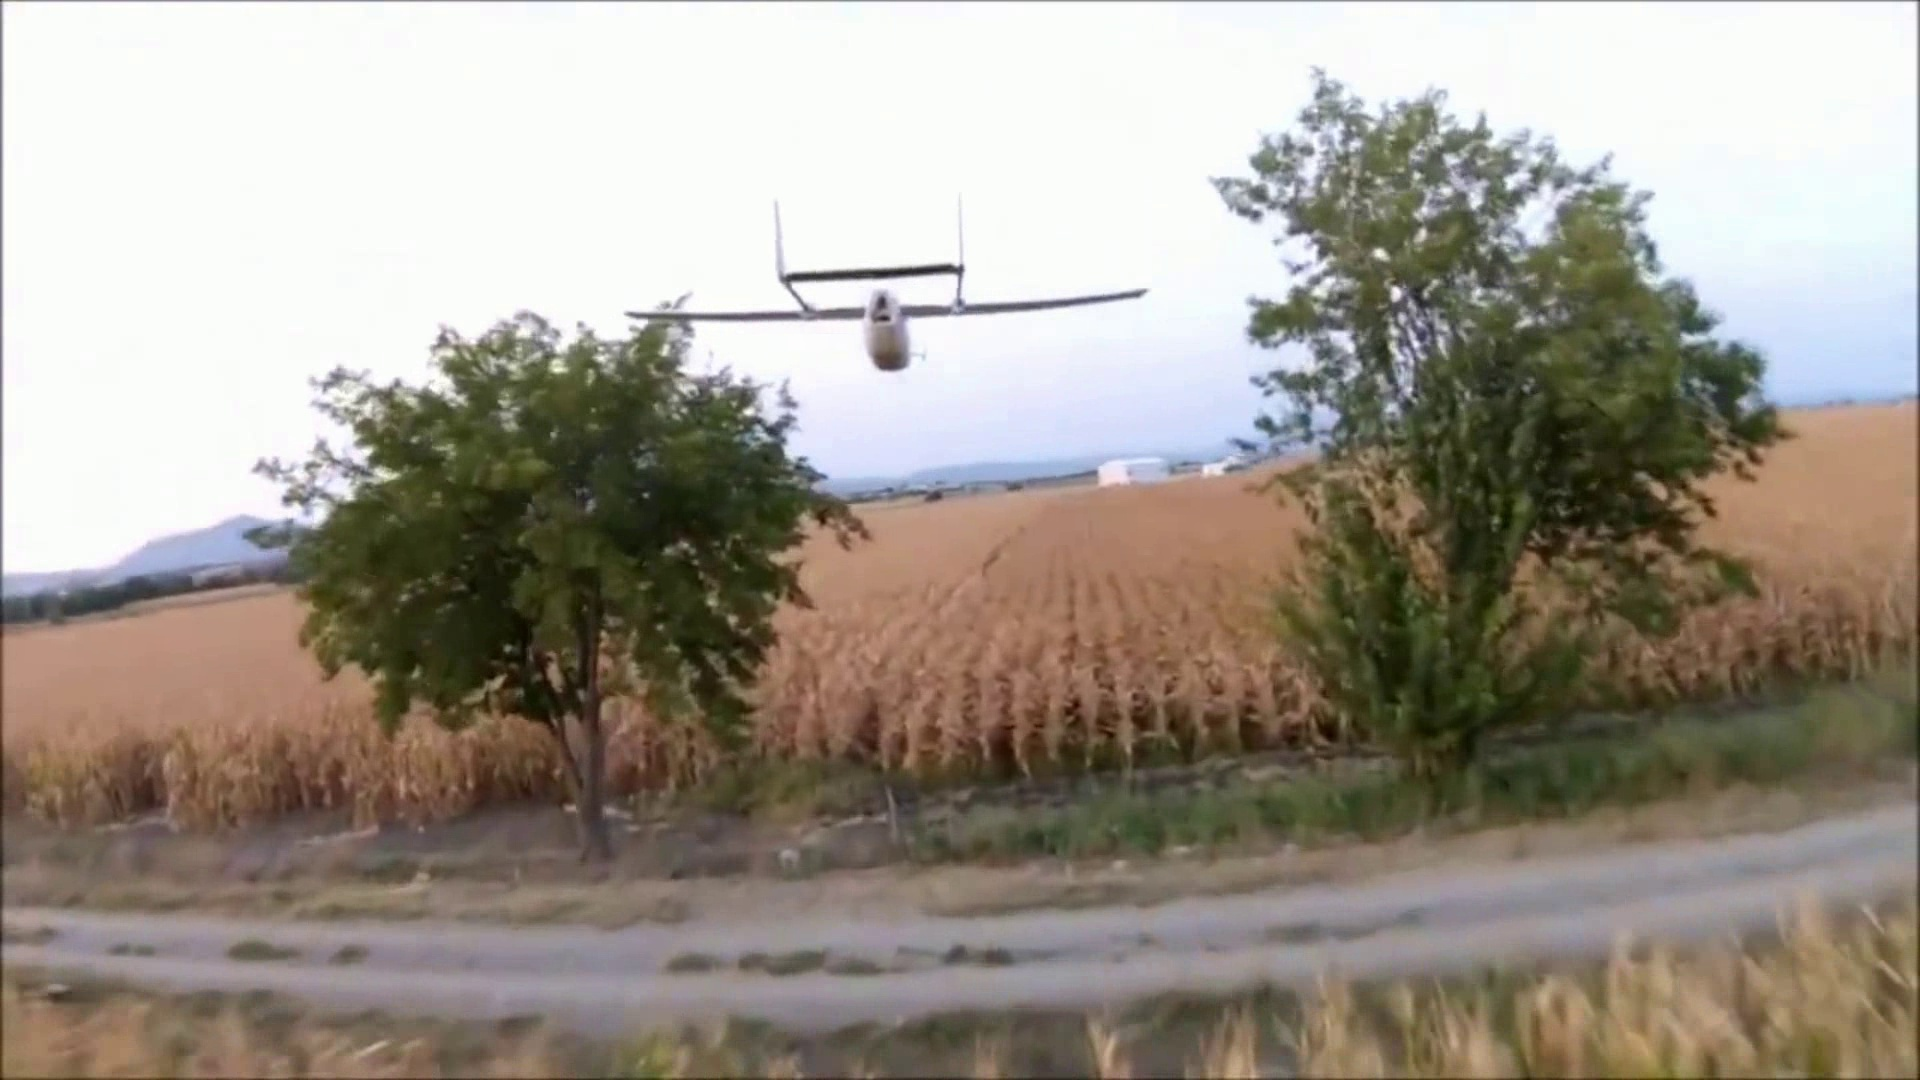airplane: (624, 194, 1152, 375)
